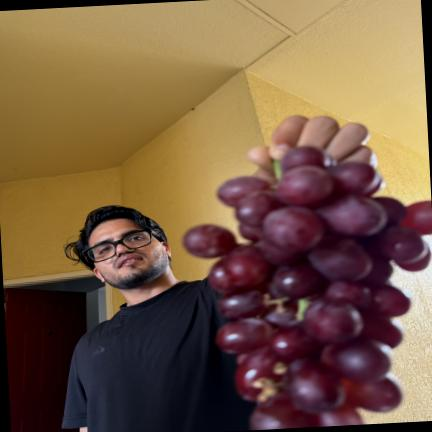grape_cluster: (184, 147, 432, 430)
